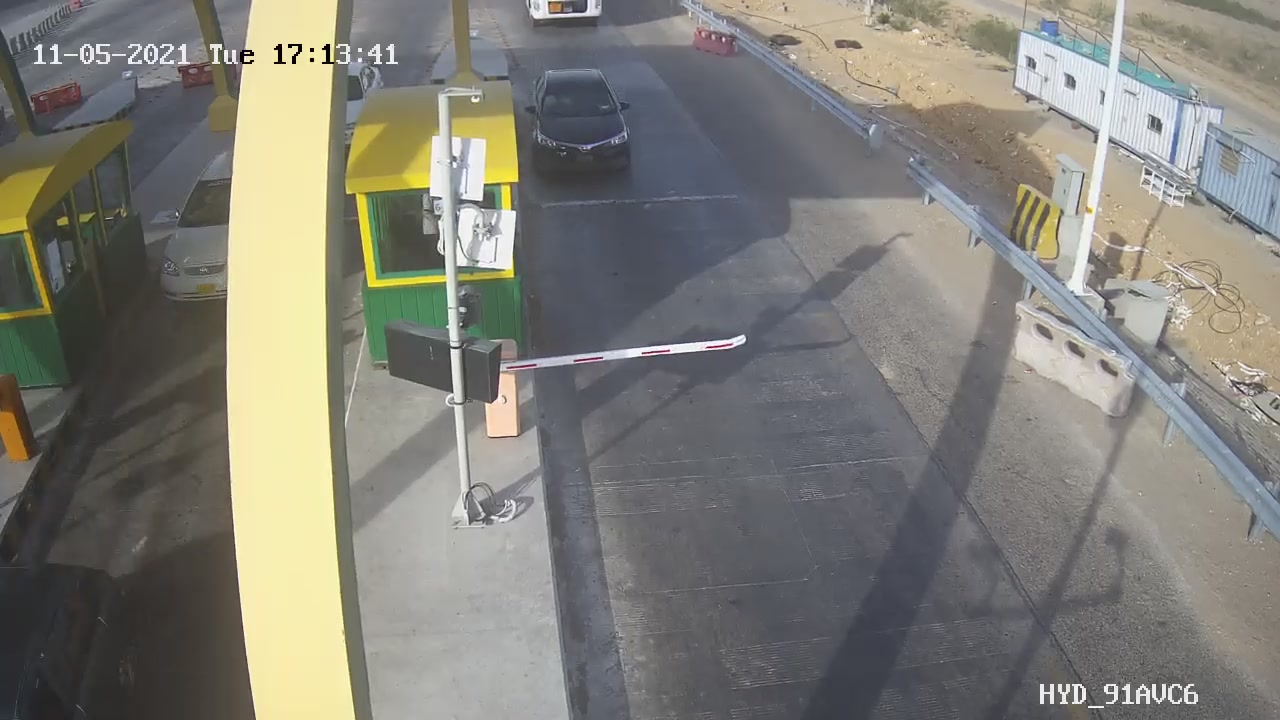F1: (511, 53, 655, 191)
